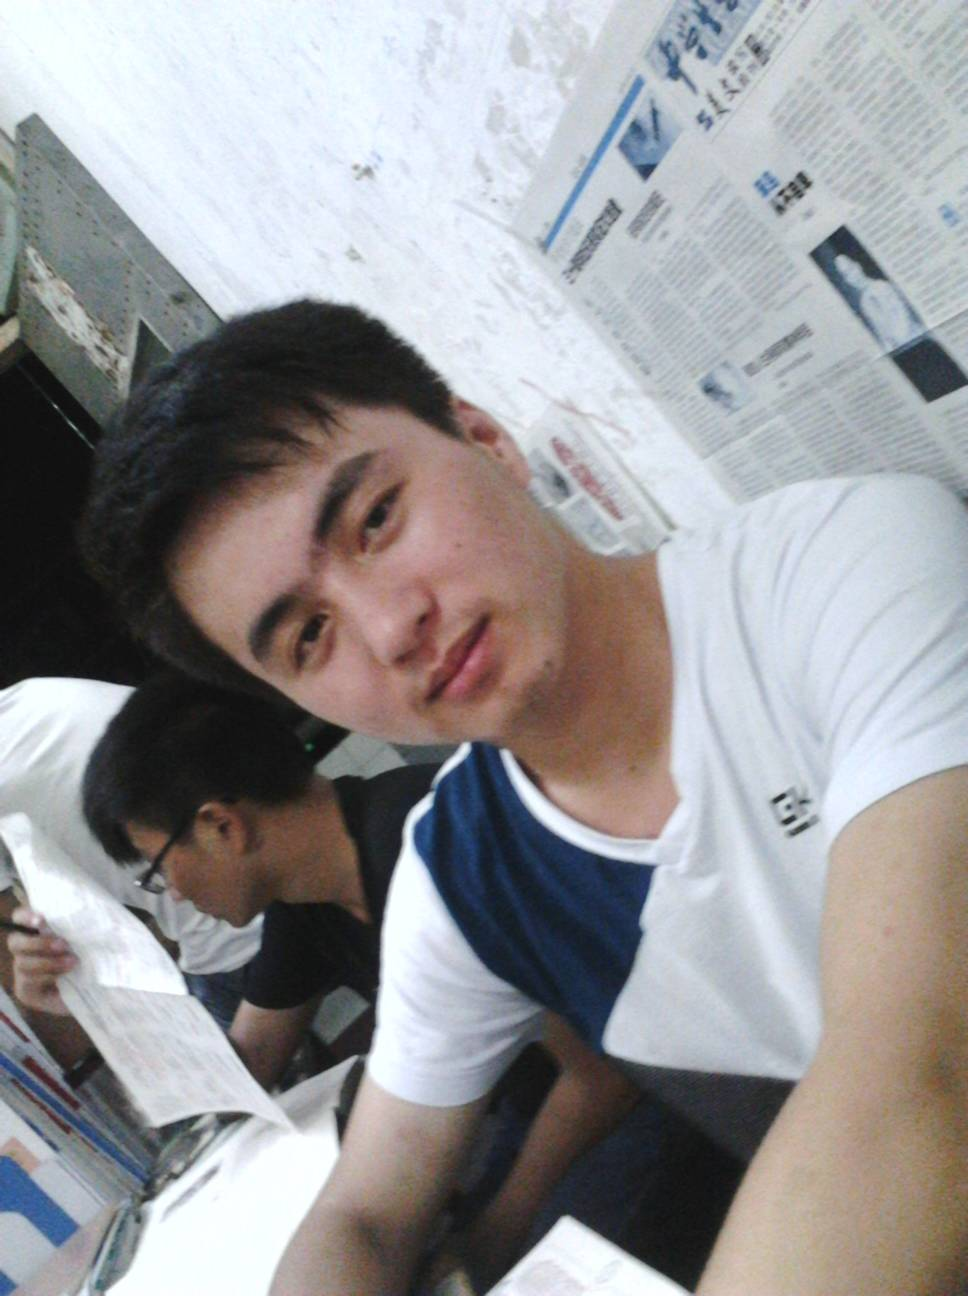person: (138, 282, 878, 1262)
